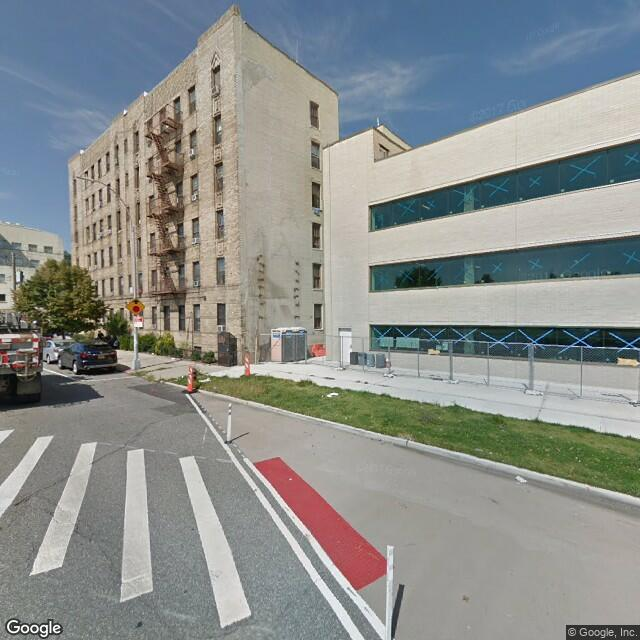litter: (516, 475, 527, 483), (198, 376, 210, 382), (328, 392, 338, 397)
